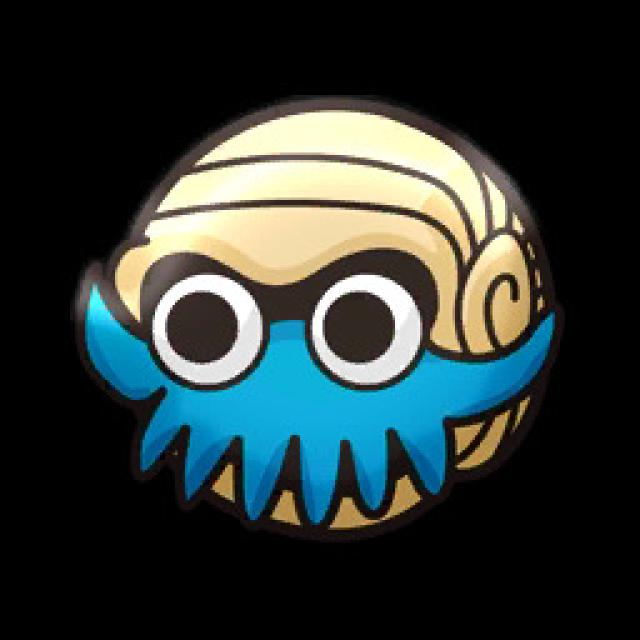Omanyte: (64, 92, 575, 542)
